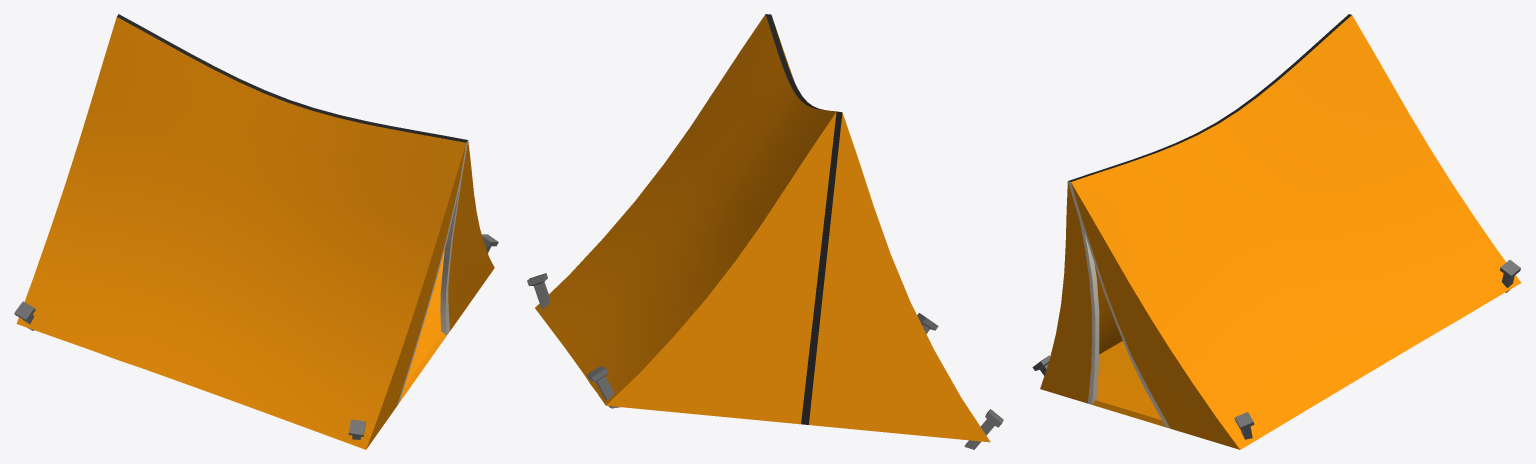
Rendered from tent.glb.
3 renders of one model, left to right at view 1: azimuth 30°, elevation 25°; view 2: azimuth 150°, elevation 25°; view 3: azimuth 270°, elevation 25°, orthographic. The views are drawn at different scales.
Parts seen in each view (by area): view 1: Cube.509, Cube.510; view 2: Cube.509, Cube.510; view 3: Cube.509, Cube.510.
Part boxes in pixels (x1,y1,x2,y2): Cube.509: (16,14,494,449); Cube.510: (14,234,498,439); Cube.509: (535,14,990,442); Cube.510: (527,273,1003,449); Cube.509: (1040,14,1521,449); Cube.510: (1032,260,1520,439).
Bounding box in the file's own units: 2.35 × 1.72 × 2.28.
1 material, 1 textured.
